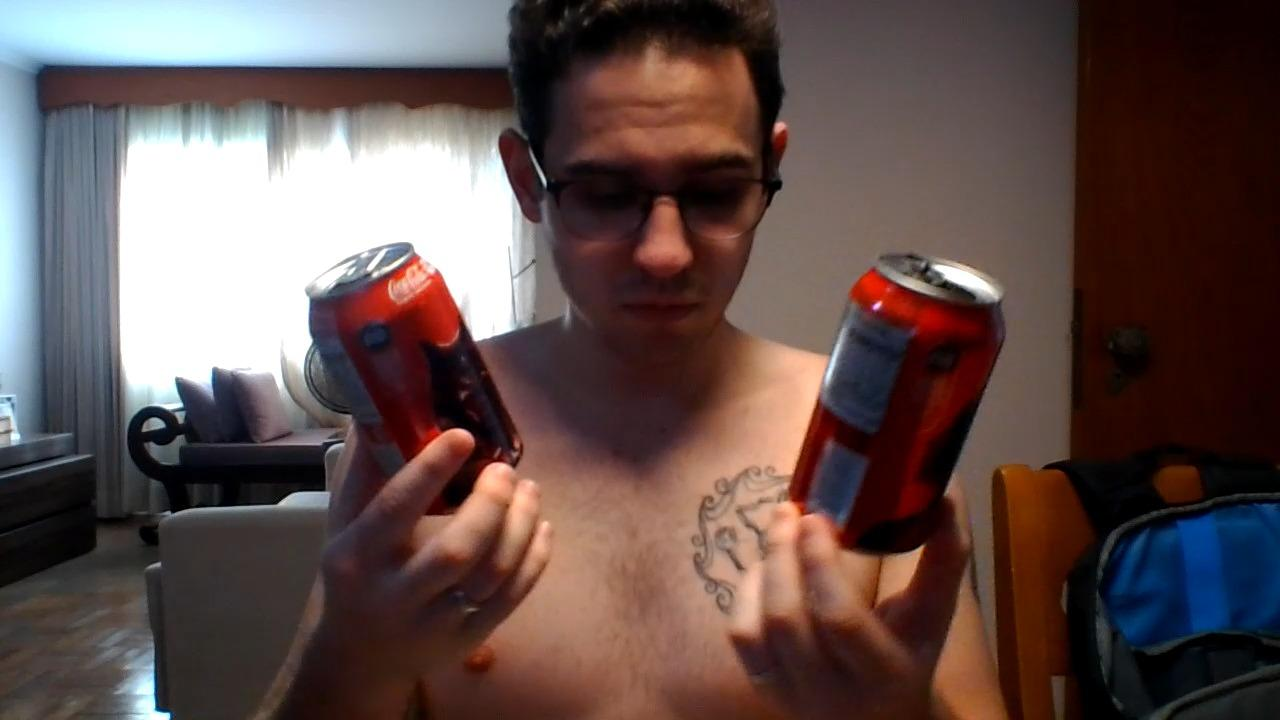coke: (791, 252, 1007, 559), (308, 241, 524, 514)
